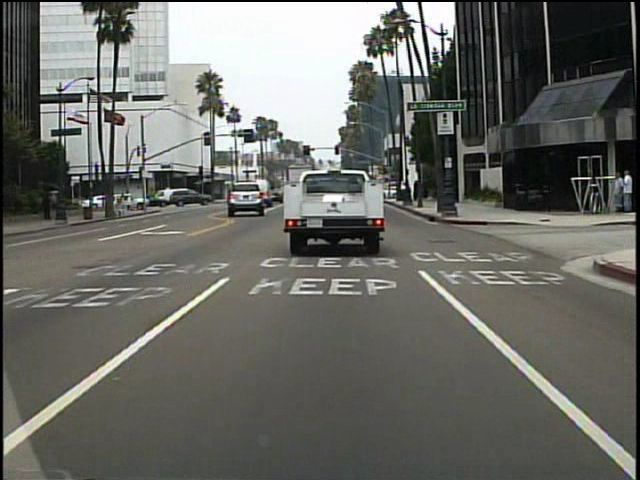person: (620, 168, 634, 215), (610, 170, 623, 215), (126, 190, 137, 213)
